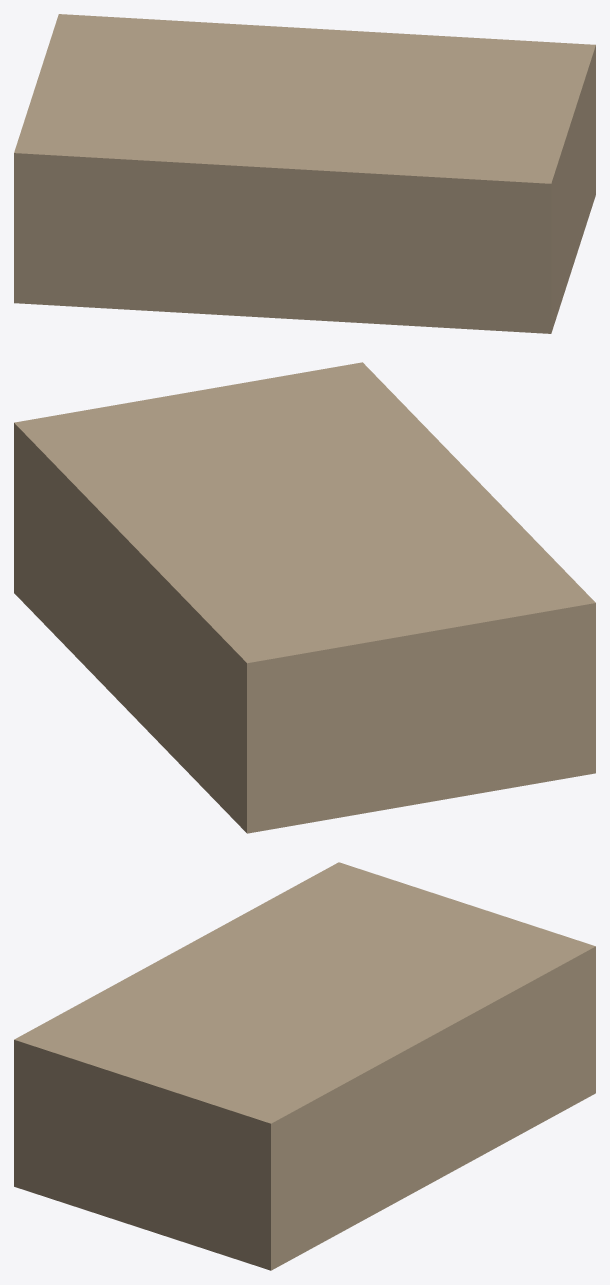
File: bld_49798373.dae
The picture shows the model from 3 angles, top to bottom: view 1: azimuth 30°, elevation 25°; view 2: azimuth 150°, elevation 25°; view 3: azimuth 270°, elevation 25°; orthographic projection. The views are drawn at different scales.
Parts seen in each view (by area): view 1: Compact Storage & Workspace; view 2: Compact Storage & Workspace; view 3: Compact Storage & Workspace.
Boxes of the visible parts, x1,y1,x2,y2 form: Compact Storage & Workspace: (14, 14, 595, 333); Compact Storage & Workspace: (14, 362, 595, 833); Compact Storage & Workspace: (14, 862, 595, 1270).
Bounding box in the file's own units: 38.15 × 35.88 × 10.
